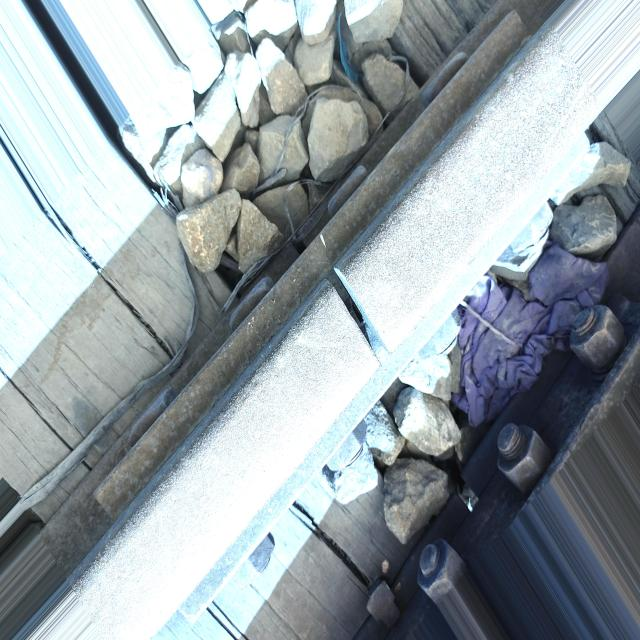crack: (300, 263, 428, 397)
